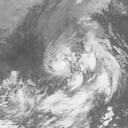cyclone: (42, 43, 89, 103)
